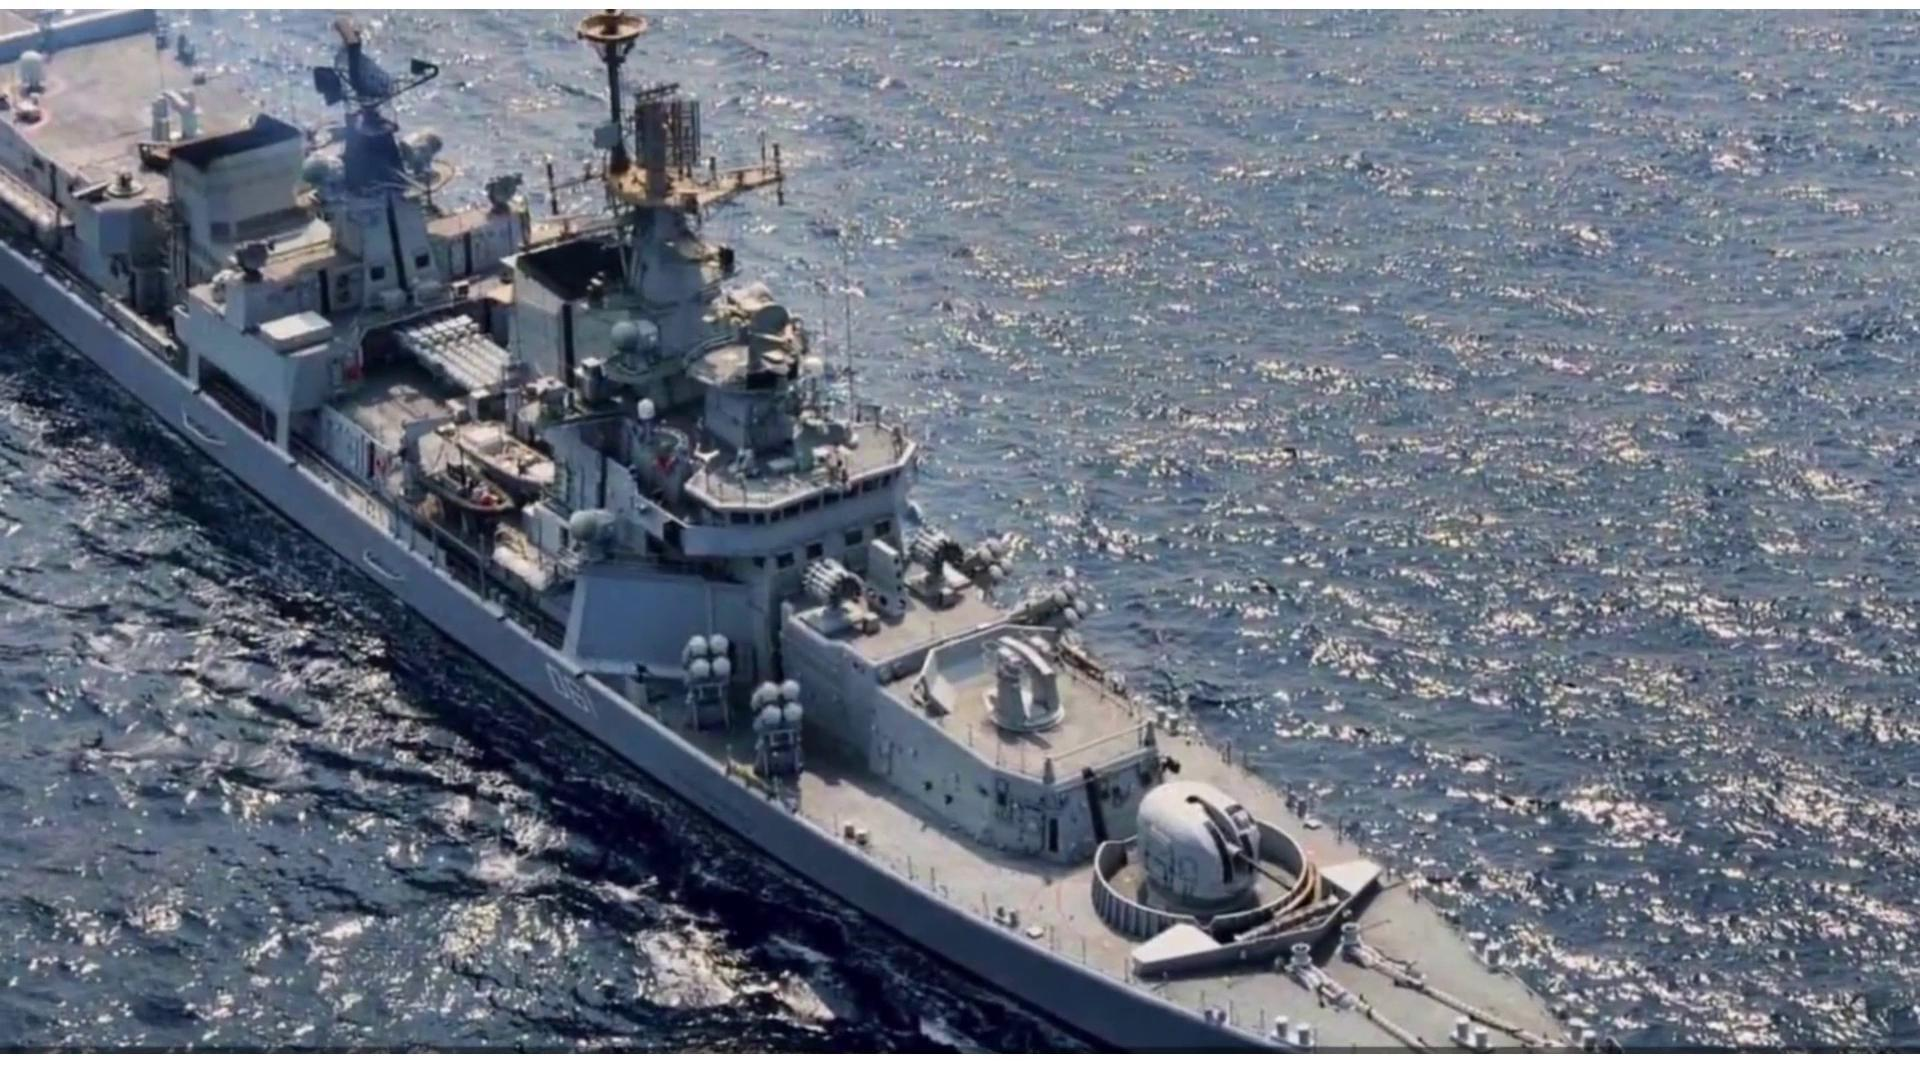OCR: (530, 653, 609, 733)
